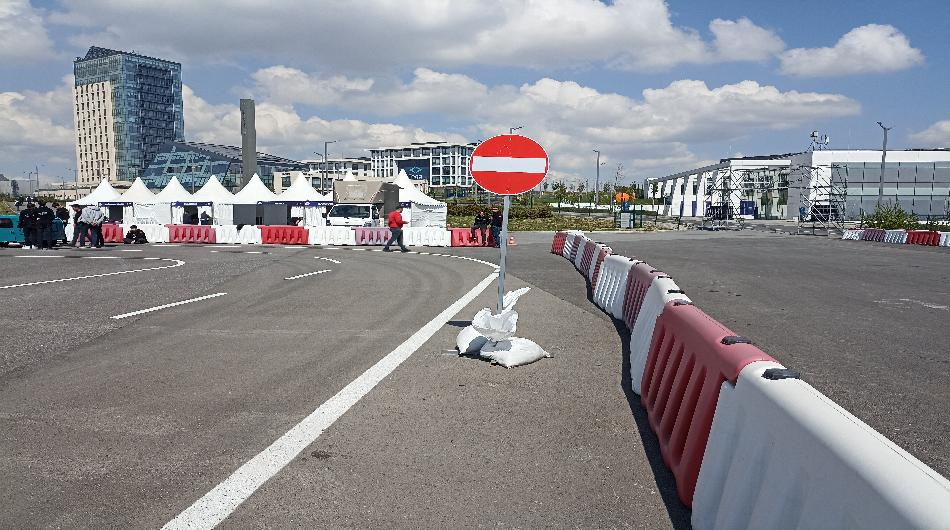girilmez: (468, 128, 549, 195)
